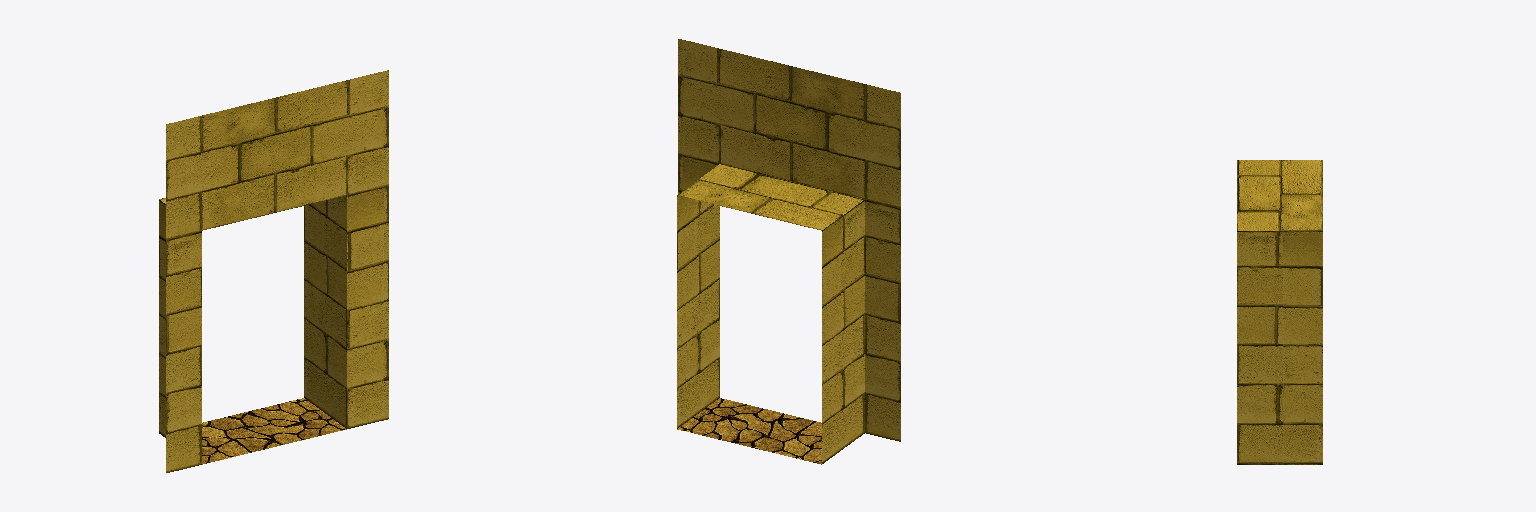
3 renders of one model, left to right at view 1: azimuth 30°, elevation 25°; view 2: azimuth 150°, elevation 25°; view 3: azimuth 270°, elevation 25°, orthographic.
Visible parts, largest first — view 1: brick_wall_x1_port; view 2: brick_wall_x1_port; view 3: brick_wall_x1_port.
Part boxes in pixels (left/top/right/bottom): brick_wall_x1_port: left=159, top=70, right=388, bottom=472; brick_wall_x1_port: left=677, top=39, right=900, bottom=464; brick_wall_x1_port: left=1237, top=160, right=1322, bottom=464.
Size of the model in its own units: 200 by 300 by 67.
2 materials, 2 textured.